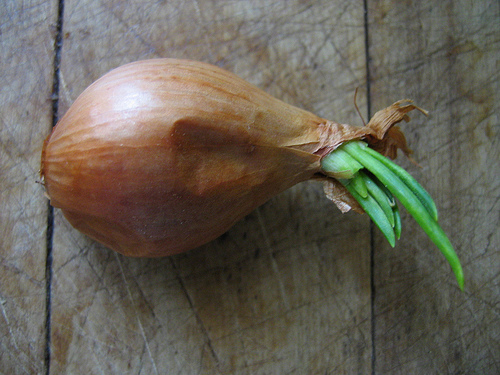onion: (42, 60, 465, 293)
